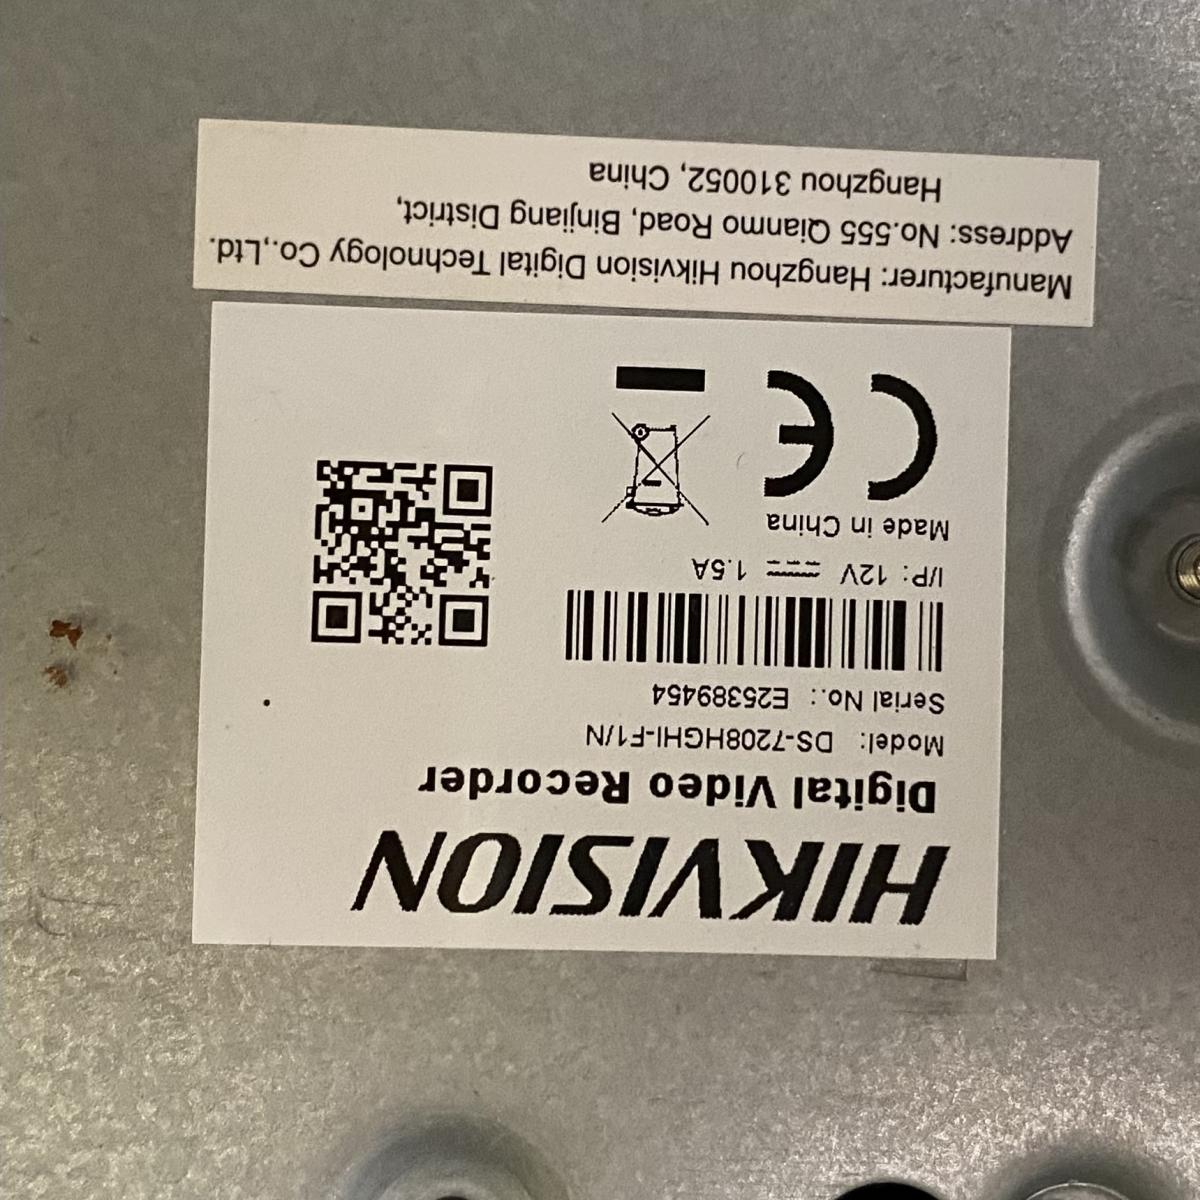Barcode: (537, 573, 956, 688)
Label: (189, 307, 1008, 952)
